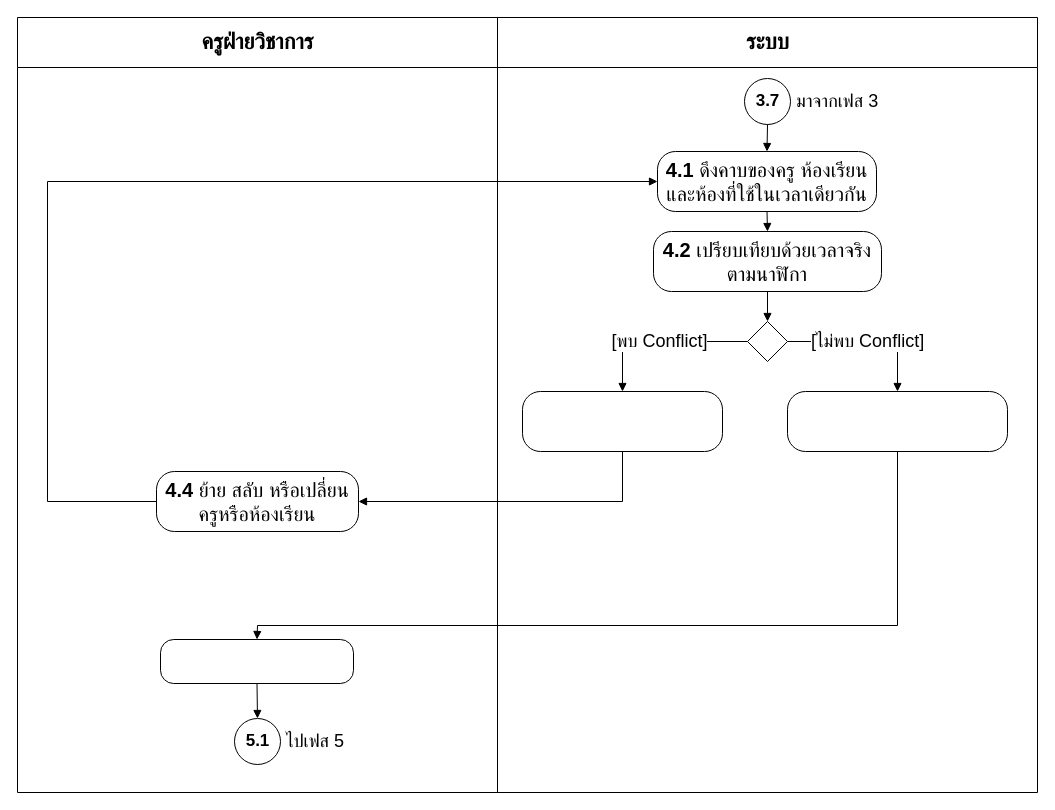
This 1055x810 diagram has some shape labels left out. Each missing label, with the centre of its shape:
"4.3 ทำเครื่องหมาย คาบที่ชนและแจ้งเตือน" belongs at point 622,421.
"4.5 แสดงคำเตือน (ถ้ามี) เช่น เกินคาบต่อวัน" belongs at point 897,421.
"4.6 บันทึกตารางฉบับร่าง" belongs at point 257,661.
